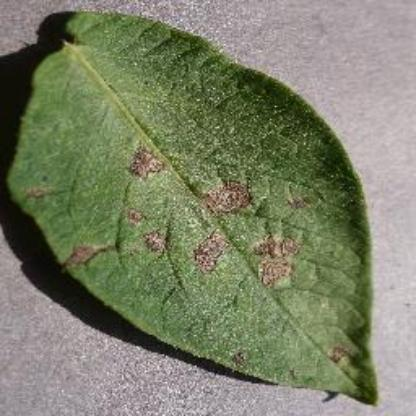Early-Blight: (7, 7, 382, 406)
